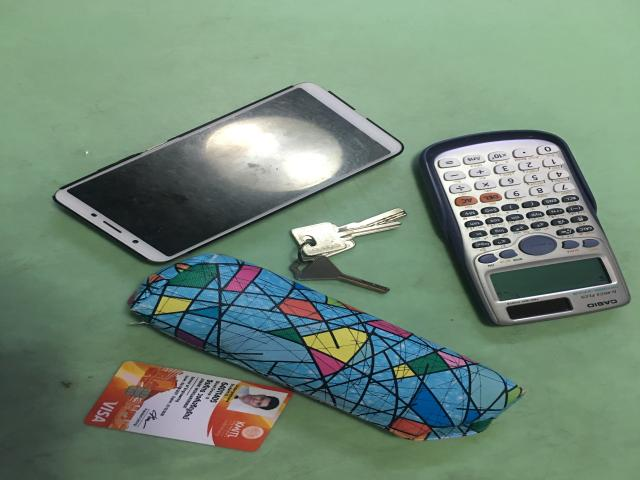Keys: (290, 208, 407, 293)
Mobile phone: (55, 83, 403, 262)
